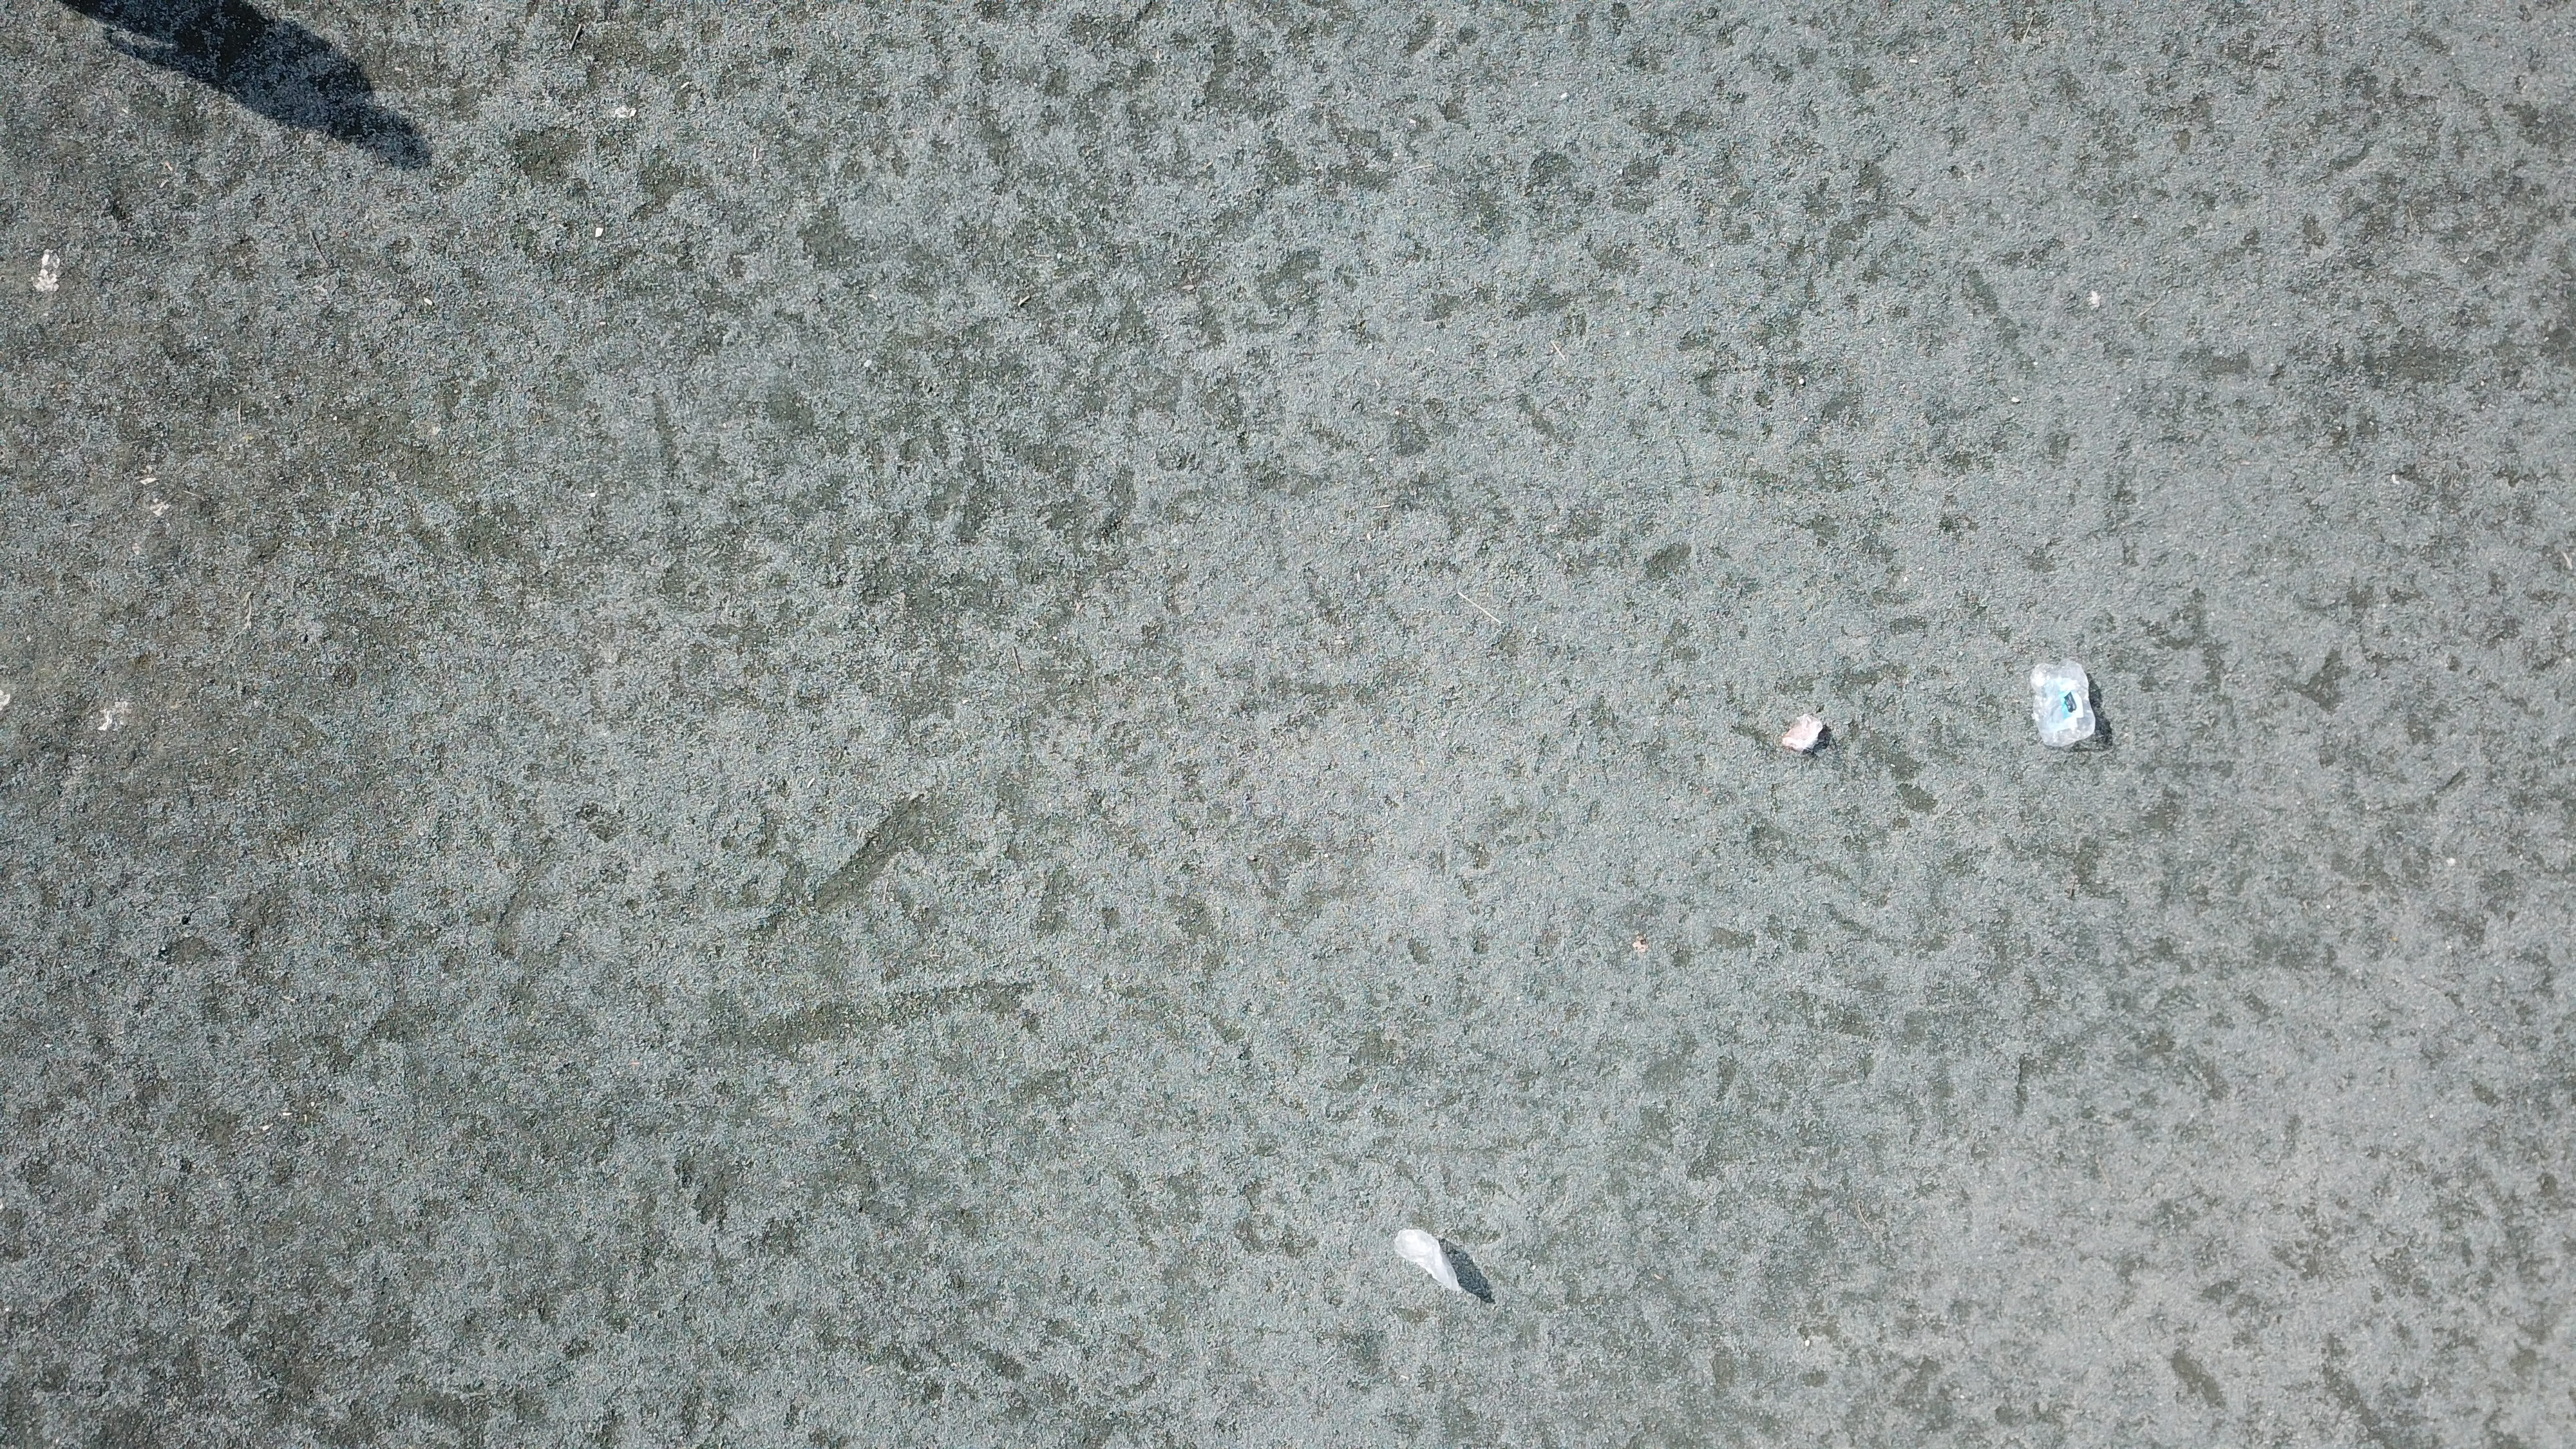Plastic: (2017, 656, 2100, 755), (1385, 1226, 1476, 1299), (1782, 708, 1828, 752)
